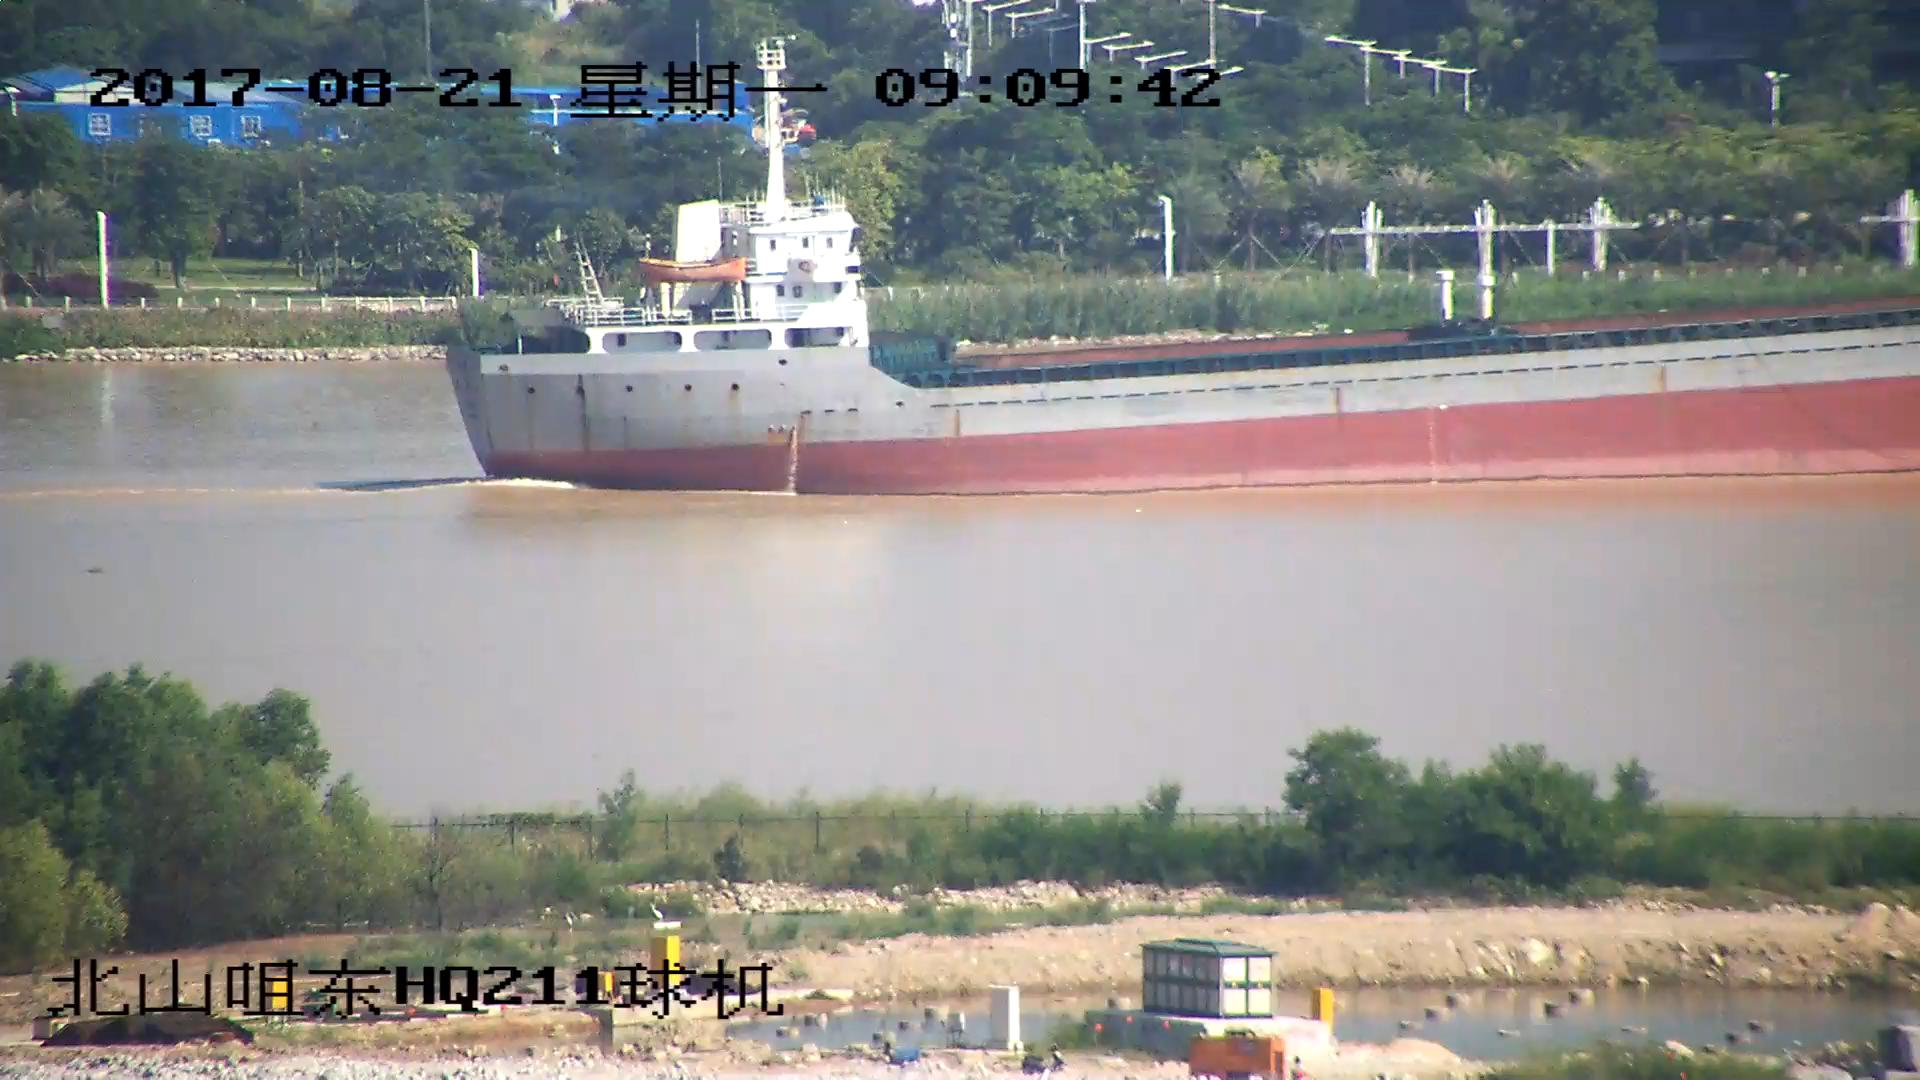general cargo ship: (439, 117, 1920, 494)
